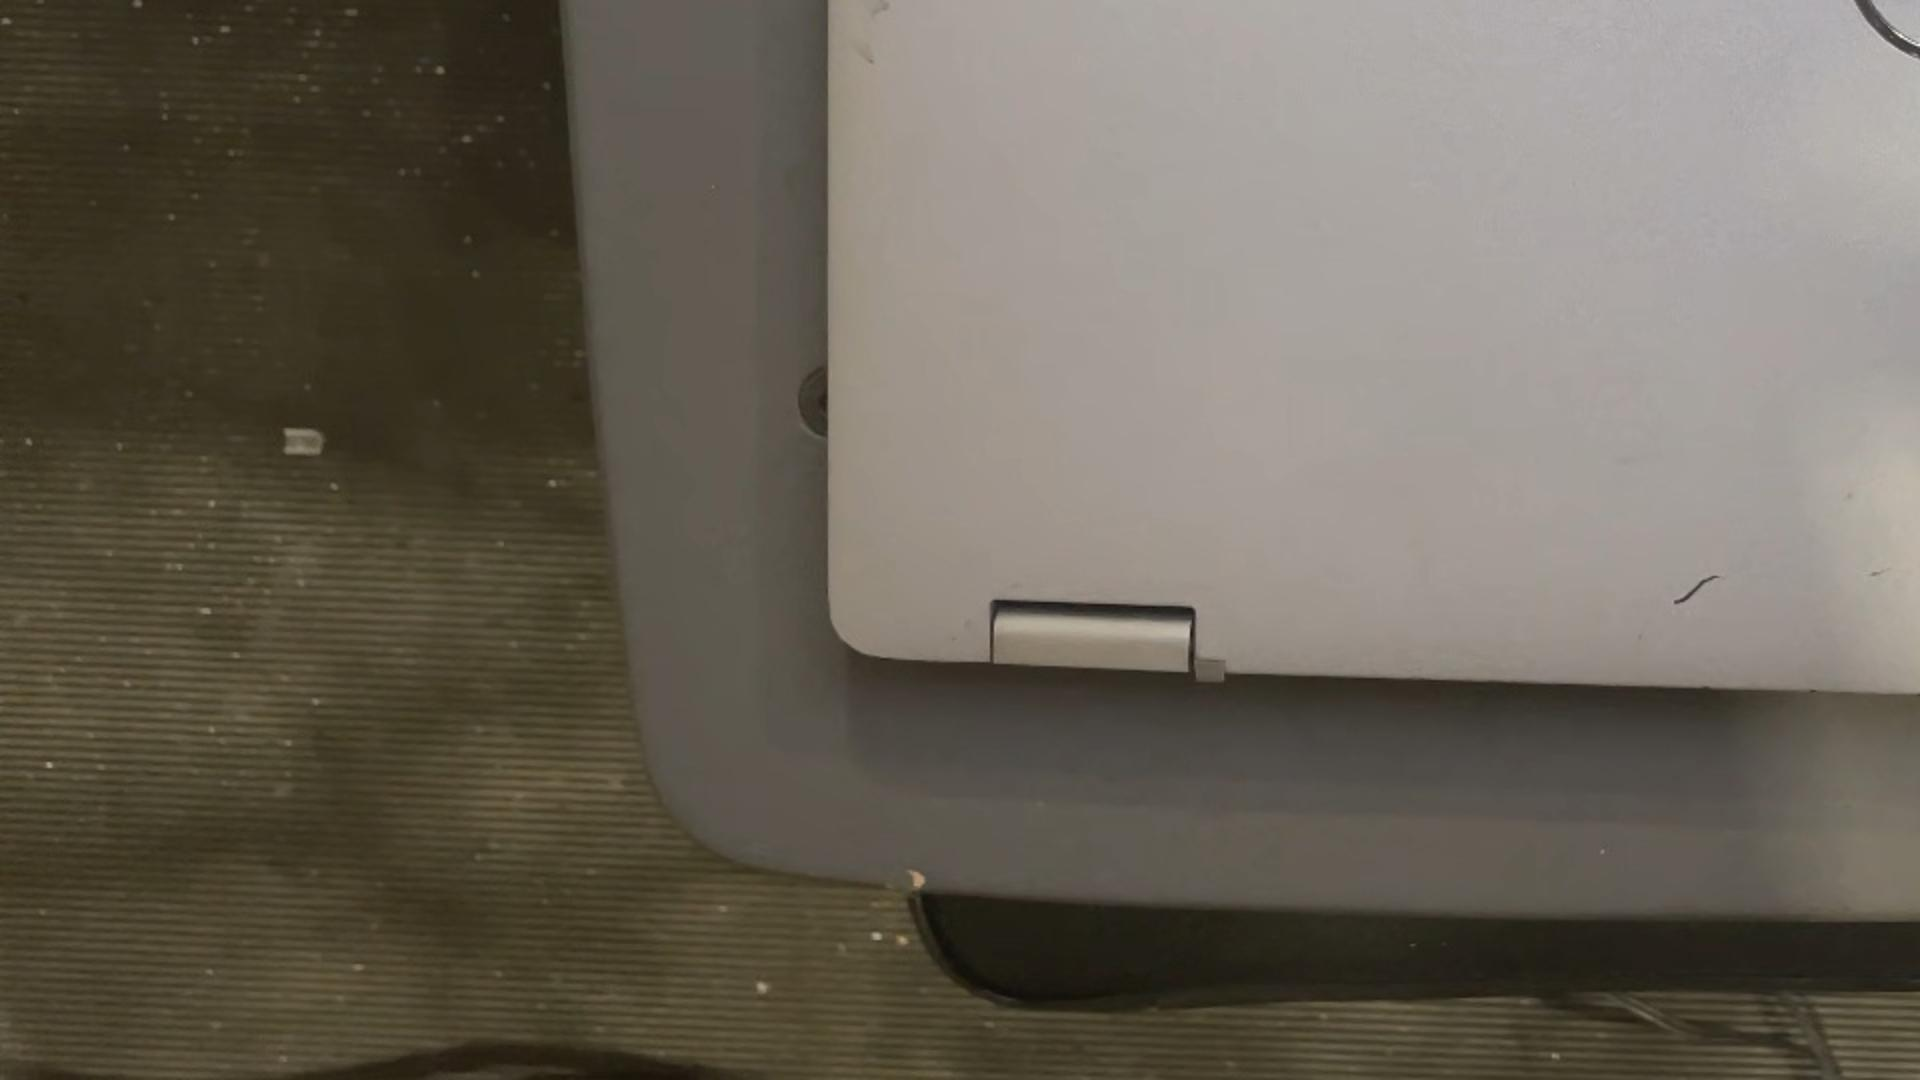scratches: (1671, 574, 1724, 605), (1869, 564, 1895, 579)
